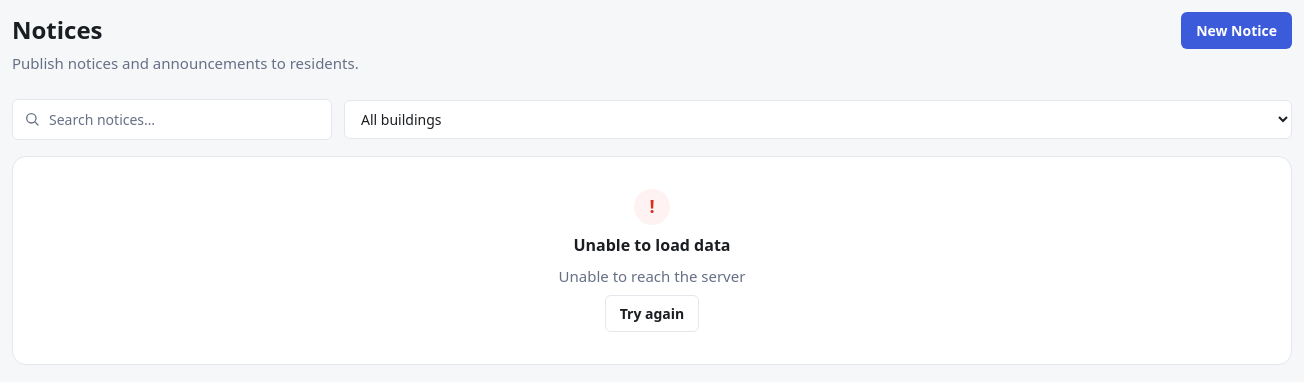
Test: NoticesPage CRUD functionality › shows an API error and retries the current request
Check: the message shows "Unable to reach the server", box x1=559 y1=266 x2=745 y2=286
Step 1. Click the button "Try again" → {"x": 652, "y": 314}, box x1=605 y1=295 x2=699 y2=332
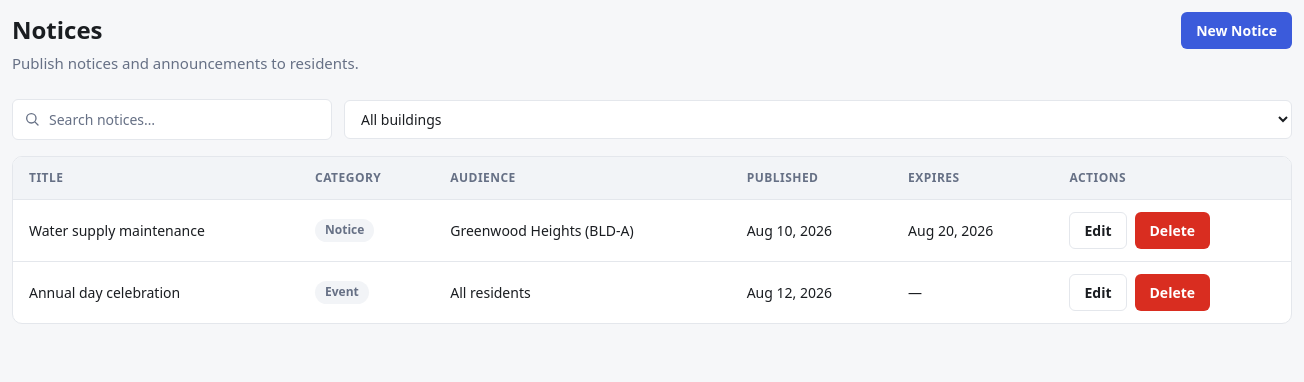
Check: the text "Water supply maintenance" is shown, box x1=13 y1=199 x2=299 y2=261
